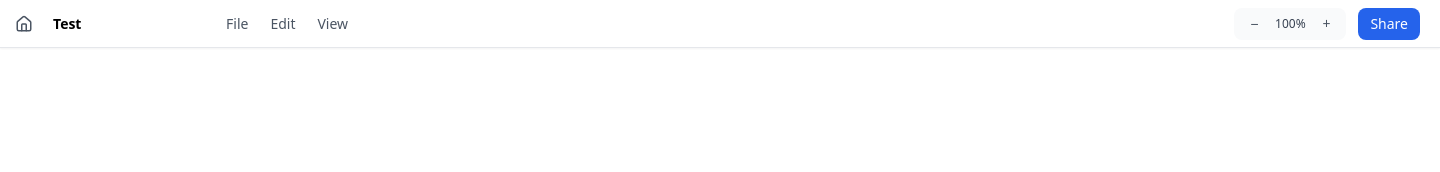
Test: MenuBar › opens File menu and shows menu items on click
Click the button "File" at (237, 24), box [216, 10, 258, 38]
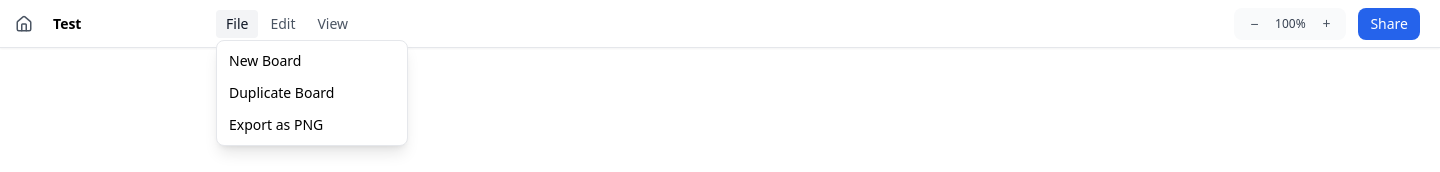
Check: the text "New Board" is shown, box [229, 50, 301, 70]
Check: the text "Duplicate Board" is shown, box [229, 82, 334, 102]
Check: the text "Export as PNG" is shown, box [229, 114, 323, 134]
